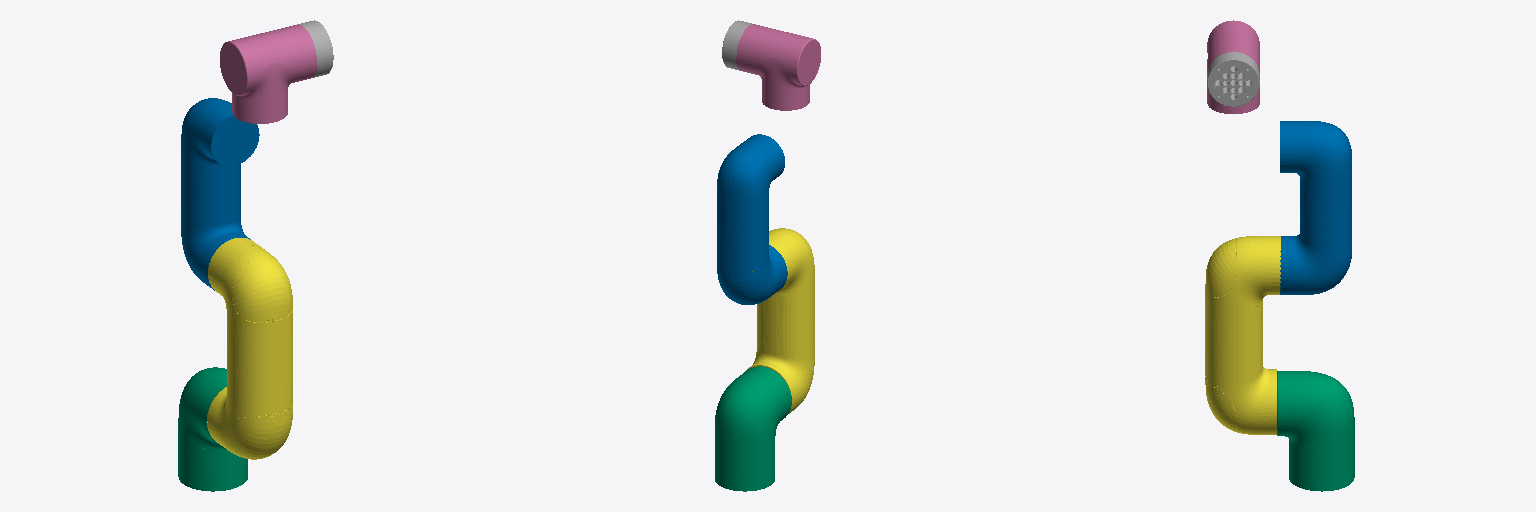
URDF robot description (mycobot_ai):
<?xml version="1.0"?>
<robot xmlns:xacro="http://www.ros.org/wiki/xacro" name="mycobot_ai">


  <link name="env">
    <visual>
      <geometry>
        <!--- 0.0 0 -0.04  1.5708 3.14159-->
        <mesh filename="package://mycobot_description/urdf/mycobot_280_pi/suit_env_v2.dae"/>
      </geometry>
      <!-- <origin xyz = "0 0 -0.02 " rpy = "1.5708 0 -1.5708"/> -->
      <origin xyz = "0.16 0 0.0 " rpy = "0 0 3.14159"/>
    </visual>
  </link>

  <link name="joint1">
    <visual>
      <geometry>
        <!--- 0.0 0 -0.04  1.5708 3.14159-->
        <mesh filename="package://mycobot_description/urdf/mycobot_280_pi/joint1_pi.dae"/>
      </geometry>
      <origin xyz = "0.0 0 0 " rpy = " 0 0 0"/>
    </visual>
    <collision>
      <geometry>
        <!--- 0.0 0 -0.04  1.5708 3.14159-->
        <mesh filename="package://mycobot_description/urdf/mycobot_280_pi/joint1_pi.dae"/>
      </geometry>
      <origin xyz = "0.0 0 0 " rpy = " 0 0 0"/>
    </collision>
  </link>

  <link name="joint2">
    <visual>
      <geometry>
        <mesh filename="package://mycobot_description/urdf/mycobot_280_pi/joint2.dae"/>
      </geometry>
      <origin xyz = "0.0 0 -0.06096 " rpy = " 0 0 -1.5708"/>
    </visual>
    <collision>
      <geometry>
        <mesh filename="package://mycobot_description/urdf/mycobot_280_pi/joint2.dae"/>
      </geometry>
      <origin xyz = "0.0 0 -0.06096 " rpy = " 0 0 -1.5708"/>
    </collision>
  </link>


  <link name="joint3">
    <visual>
      <geometry>
        <mesh filename="package://mycobot_description/urdf/mycobot_280_pi/joint3.dae"/>
      </geometry>
      <origin xyz = "0.0 0 0.03256 " rpy = " 0 -1.5708 0"/>
    </visual>
    <collision>
      <geometry>
        <mesh filename="package://mycobot_description/urdf/mycobot_280_pi/joint3.dae"/>
      </geometry>
      <origin xyz = "0.0 0 0.03256 " rpy = " 0 -1.5708 0"/>
    </collision>
  </link>


  <link name="joint4">
    <visual>
      <geometry>
        <!--- 0.0 0 -0.04 -->
        <mesh filename="package://mycobot_description/urdf/mycobot_280_pi/joint4.dae"/>
      </geometry>
      <origin xyz = "0.0 0 0.03056 " rpy = " 0 -1.5708 0"/>
    </visual>
    <collision>
      <geometry>
        <!--- 0.0 0 -0.04 -->
        <mesh filename="package://mycobot_description/urdf/mycobot_280_pi/joint4.dae"/>
      </geometry>
      <origin xyz = "0.0 0 0.03056 " rpy = " 0 -1.5708 0"/>
    </collision>
  </link>


  <link name="joint5">
    <visual>
      <geometry>
        <!--- 0.0 0 -0.04 -->
        <mesh filename="package://mycobot_description/urdf/mycobot_280_pi/joint5.dae"/>
      </geometry>
      <origin xyz = "0.0 0 -0.03356 " rpy = "0 -1.5708 1.5708"/>
    </visual>
    <collision>
      <geometry>
        <!--- 0.0 0 -0.04 -->
        <mesh filename="package://mycobot_description/urdf/mycobot_280_pi/joint5.dae"/>
      </geometry>
      <origin xyz = "0.0 0 -0.03356 " rpy = "0 -1.5708 1.5708"/>
    </collision>
  </link>


  <link name="joint6">
    <visual>
      <geometry>
        <!--- 0.0 0 -0.04 -->
        <mesh filename="package://mycobot_description/urdf/mycobot_280_pi/joint6.dae"/>
      </geometry>
      <origin xyz = "0 0.00 -0.038 " rpy = " 0 0 0"/>
    </visual>
    <collision>
      <geometry>
        <!--- 0.0 0 -0.04 -->
        <mesh filename="package://mycobot_description/urdf/mycobot_280_pi/joint6.dae"/>
      </geometry>
      <origin xyz = "0 0.00 -0.038 " rpy = " 0 0 0"/>
    </collision>
  </link>


  <link name="joint6_flange">
    <visual>
      <geometry>
        <!--- 0.0 0 -0.04 -->
        <mesh filename="package://mycobot_description/urdf/mycobot_280_pi/joint7.dae"/>
      </geometry>
      <origin xyz = "0.0 0 -0.012 " rpy = " 0 0 0"/>
    </visual>
    <collision>
      <geometry>
        <!--- 0.0 0 -0.04 -->
        <mesh filename="package://mycobot_description/urdf/mycobot_280_pi/joint7.dae"/>
      </geometry>
      <origin xyz = "0.0 0 -0.012 " rpy = " 0 0 0"/>
    </collision>
  </link>





  <joint name="joint2_to_joint1" type="revolute">
    <axis xyz="0 0 1"/>
    <limit effort = "1000.0" lower = "-3.14" upper = "3.14159" velocity = "0"/>
    <parent link="joint1"/>
    <child link="joint2"/>
    <origin xyz= "0 0 0.13156" rpy = "0 0 0"/>
  </joint>

  <joint name="joint3_to_joint2" type="revolute">
    <axis xyz="0 0 1"/>
    <limit effort = "1000.0" lower = "-3.14" upper = "3.14159" velocity = "0"/>
    <parent link="joint2"/>
    <child link="joint3"/>
    <origin xyz= "0 0  0" rpy = "0 1.5708 -1.5708"/>
  </joint>


  <joint name="joint4_to_joint3" type="revolute">
    <axis xyz=" 0 0 1"/>
    <limit effort = "1000.0" lower = "-3.14" upper = "3.14159" velocity = "0"/>
    <parent link="joint3"/>
    <child link="joint4"/>
    <origin xyz= "  -0.1104 0 0   " rpy = "0 0 0"/>
  </joint>



  <joint name="joint5_to_joint4" type="revolute">
    <axis xyz=" 0 0 1"/>
    <limit effort = "1000.0" lower = "-3.14" upper = "3.14159" velocity = "0"/>
    <parent link="joint4"/>
    <child link="joint5"/>
    <origin xyz= "-0.096 0 0.06462" rpy = "0 0 -1.5708"/>
  </joint>

  <joint name="joint6_to_joint5" type="revolute">
    <axis xyz="0 0 1"/>
    <limit effort = "1000.0" lower = "-3.14" upper = "3.14159" velocity = "0"/>
    <parent link="joint5"/>
    <child link="joint6"/>
    <origin xyz= "0 -0.07318 0" rpy = "1.5708 -1.5708 0"/>
  </joint>

  <joint name="joint6output_to_joint6" type="revolute">
    <axis xyz="0 0 1"/>
    <limit effort = "1000.0" lower = "-3.14" upper = "3.14159" velocity = "0"/>
    <parent link="joint6"/>
    <child link="joint6_flange"/>
    <origin xyz= "0 0.0456 0" rpy = "-1.5708 0 0"/>
  </joint>

  <joint name="vision_joint" type="fixed">
    <axis xyz="0 0 0"/>
    <limit effort = "1000.0" lower = "-3.14" upper = "3.14159" velocity = "0"/>
    <parent link="joint1"/>
    <child link="env"/>
    <origin xyz= "0 0 0" rpy = "0 0 0"/>
  </joint>

</robot>


--- Facts derived from the render (not from the file) ---
The picture shows the robot from 3 angles, left to right: view 1: azimuth 30°, elevation 25°; view 2: azimuth 150°, elevation 25°; view 3: azimuth 270°, elevation 25°; orthographic projection.
Model mycobot_ai with 8 links and 7 joints (6 revolute, 1 fixed), rooted at joint1, posed all joints at 0.
Links seen in each view (by area): view 1: joint3, joint4, joint6, joint2, joint6_flange; view 2: joint4, joint2, joint3, joint6, joint6_flange; view 3: joint3, joint4, joint2, joint6_flange, joint6.
Link boxes in pixels (bbox=[...]): joint3: bbox=[207, 238, 292, 459]; joint4: bbox=[181, 98, 259, 290]; joint6: bbox=[220, 25, 317, 123]; joint2: bbox=[178, 367, 247, 491]; joint6_flange: bbox=[297, 20, 333, 77]; joint4: bbox=[717, 134, 787, 304]; joint2: bbox=[715, 366, 791, 491]; joint3: bbox=[745, 228, 814, 413]; joint6: bbox=[736, 24, 820, 110]; joint6_flange: bbox=[722, 20, 751, 70]; joint3: bbox=[1205, 236, 1280, 434]; joint4: bbox=[1280, 121, 1351, 294]; joint2: bbox=[1277, 371, 1354, 491]; joint6_flange: bbox=[1207, 52, 1259, 106]; joint6: bbox=[1207, 20, 1259, 113].
Bounding box of the posed robot: 0.0713 × 0.1092 × 0.3629 m (x, y, z).
Meshes: 8 distinct files referenced, 5 mesh visuals loaded (5 Collada DAE); not drawn: 3 (reference not matched to a file when rendering).